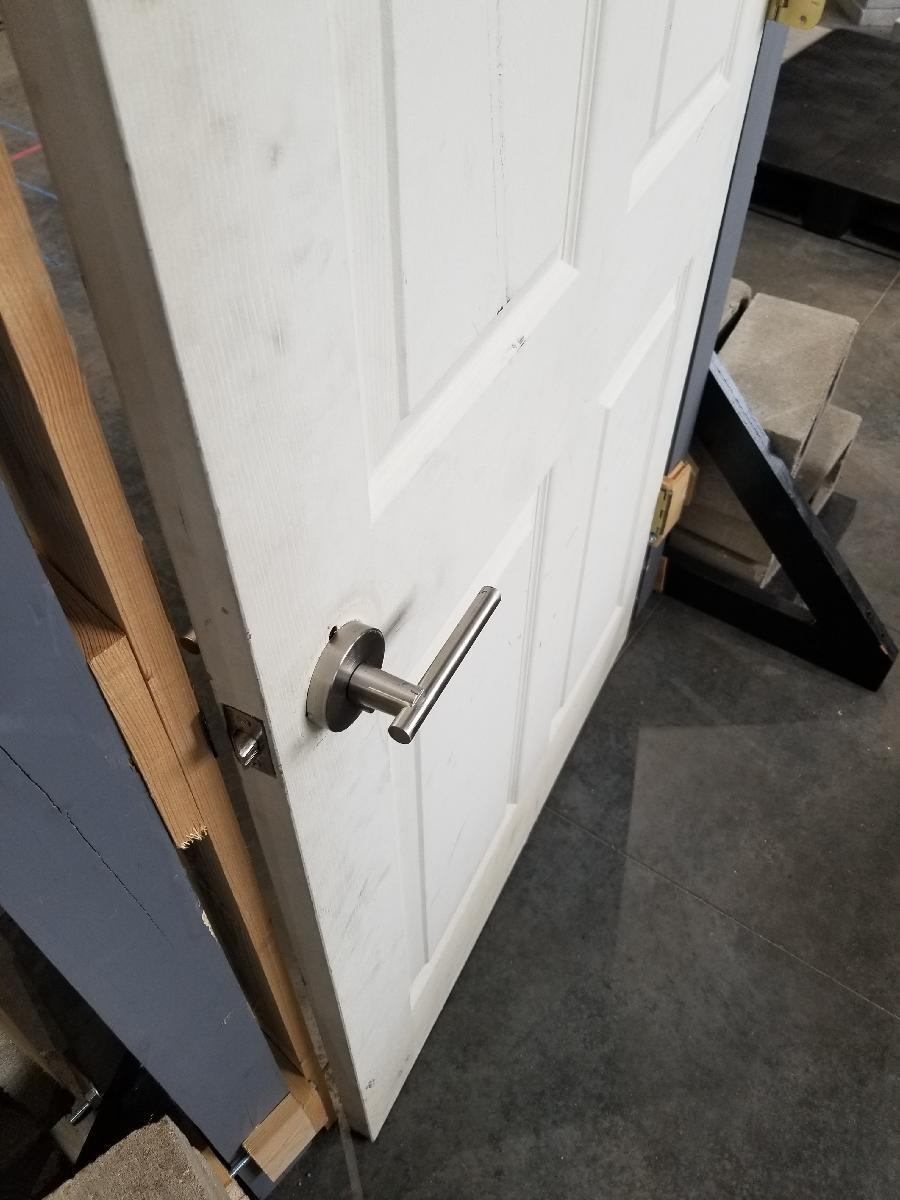door: (153, 18, 701, 1097)
handle: (303, 580, 505, 748)
